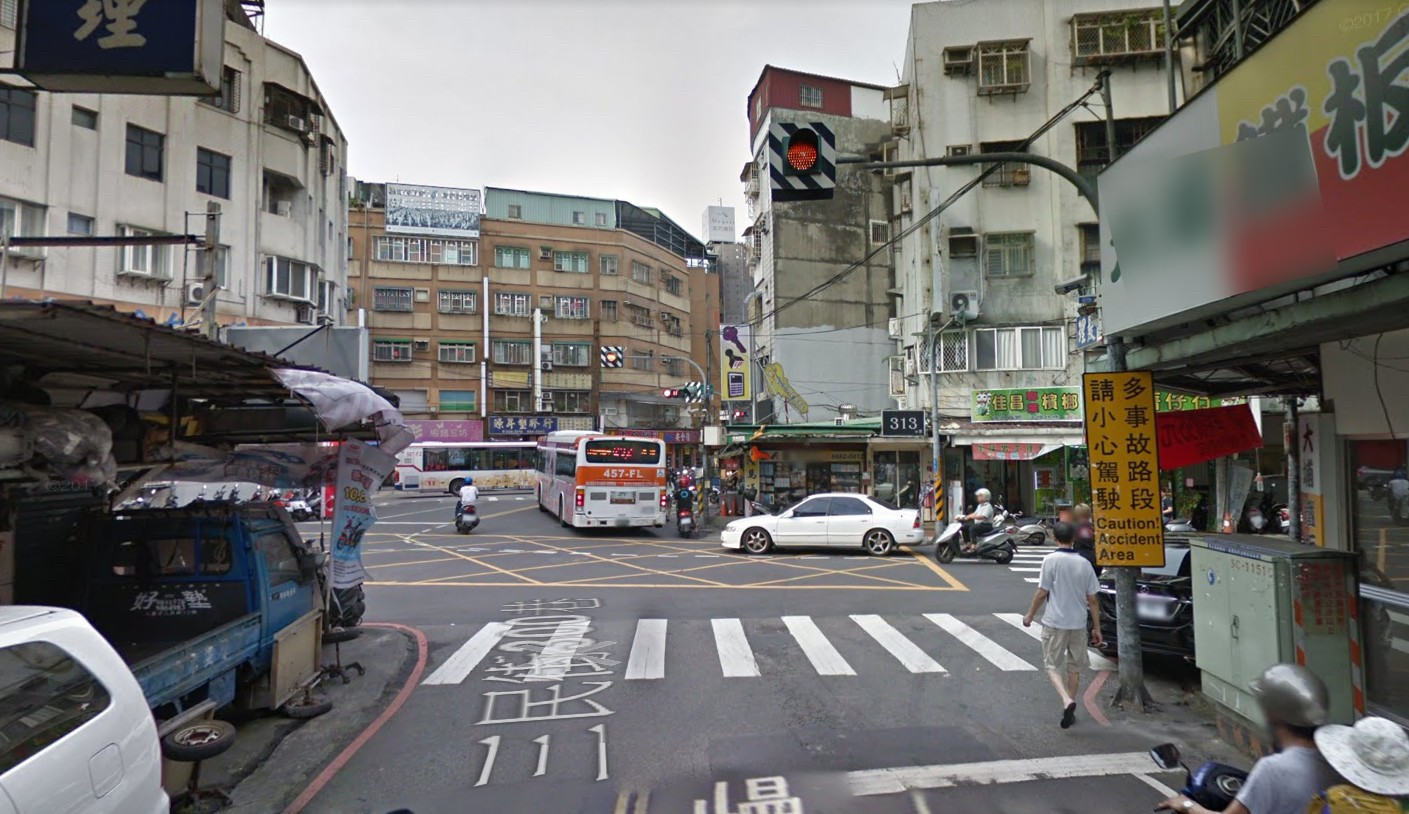people: (1239, 658, 1329, 814), (1035, 520, 1095, 732), (1321, 696, 1409, 814), (959, 484, 1001, 548), (449, 474, 483, 548), (665, 472, 701, 522)
